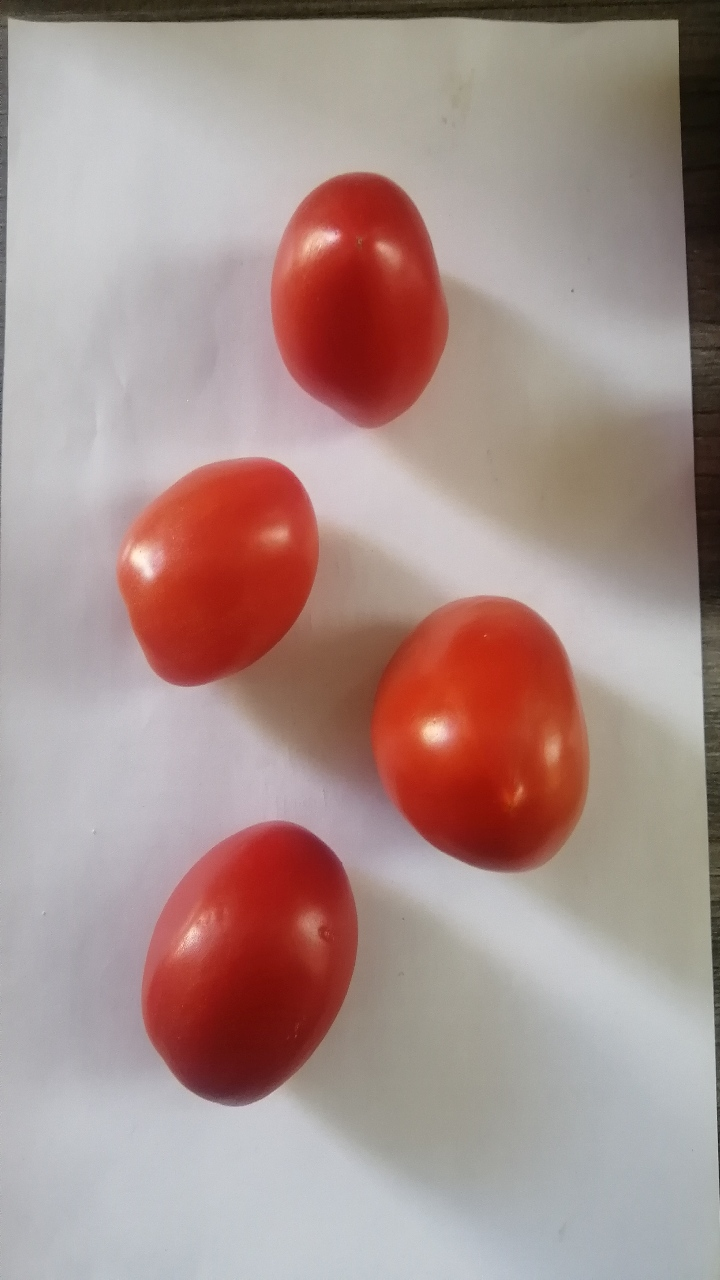tomateRojo: (111, 800, 378, 1123), (355, 575, 603, 885), (97, 439, 348, 711), (258, 143, 463, 452)
